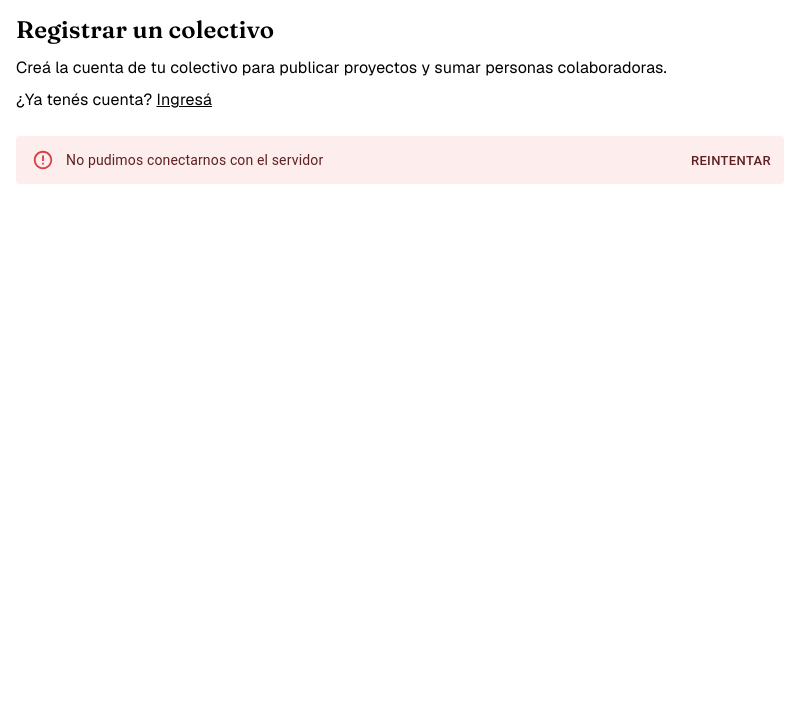
Test: RegistroColectivo › si no puede cargar los catálogos lo avisa y deja reintentar
expect the message shows "No pudimos conectarnos con el servidor": met, box [66,152,323,168]
Click the button "Reintentar" at point(731, 161), box [686,146,776,177]
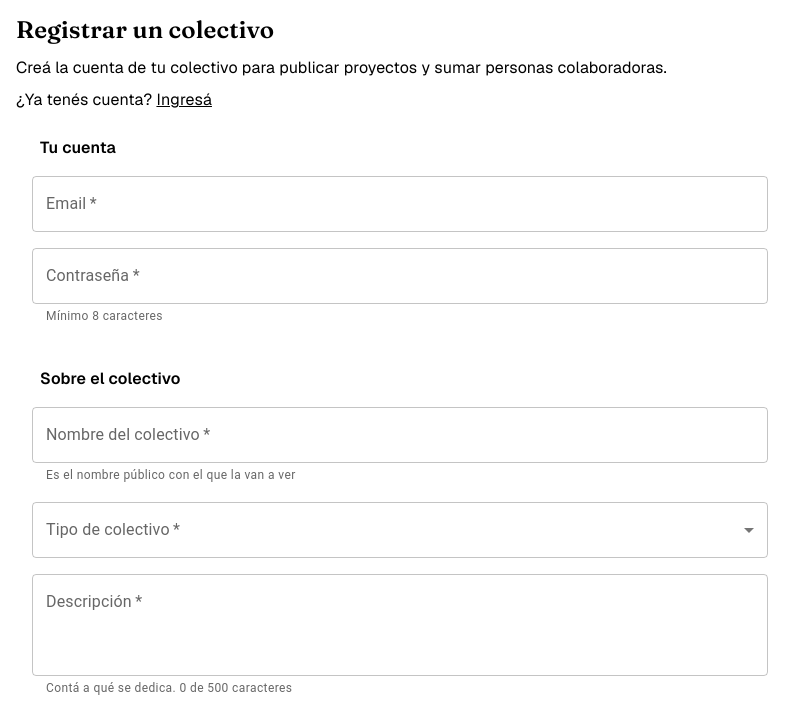
expect the field labelled "Nombre del colectivo *" is shown: met, box [32,407,768,463]
